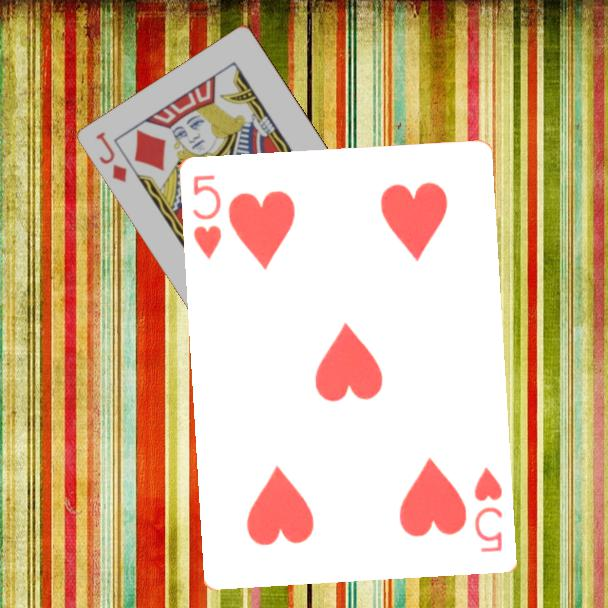d11: (93, 128, 130, 185)
h05: (471, 464, 506, 556), (190, 172, 225, 262)
